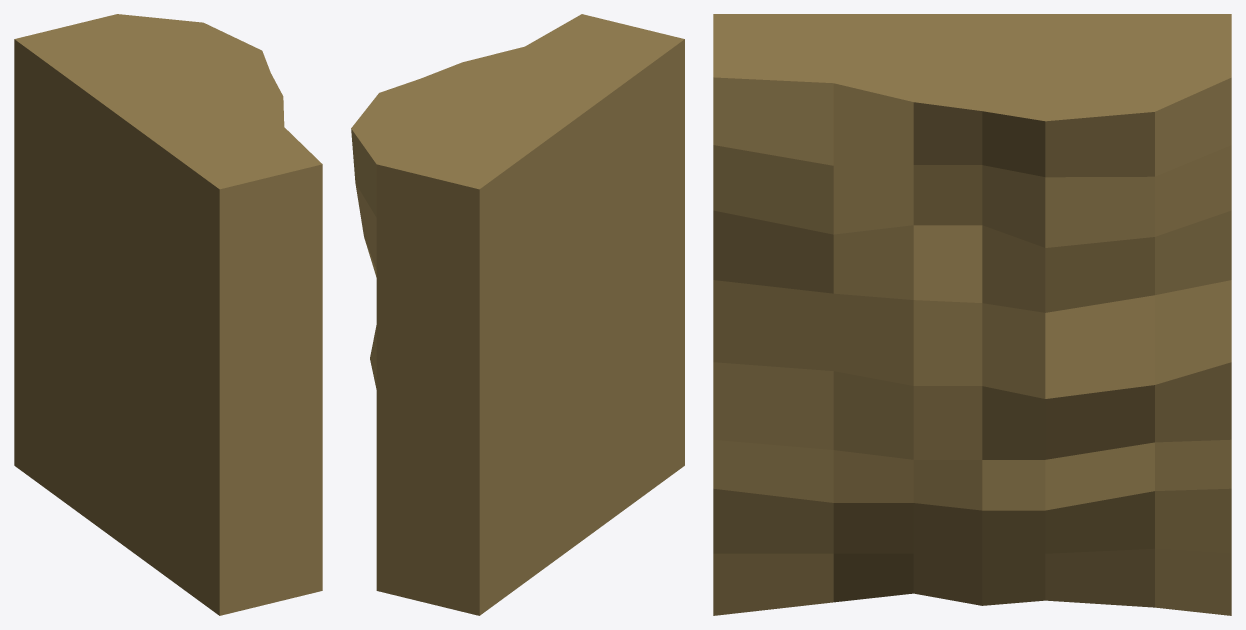
The model's file is Cliff.fbx.
3 renders of one model, left to right at view 1: azimuth 30°, elevation 25°; view 2: azimuth 150°, elevation 25°; view 3: azimuth 270°, elevation 25°, orthographic. The views are drawn at different scales.
Visible parts, largest first — view 1: Cliff_2; view 2: Cliff_2; view 3: Cliff_2.
Boxes of the visible parts, x1,y1,x2,y2 form: Cliff_2: (14,14,322,615); Cliff_2: (351,14,684,615); Cliff_2: (713,14,1231,615).
Size of the model in its own units: 16.39 by 38.36 by 33.47.
